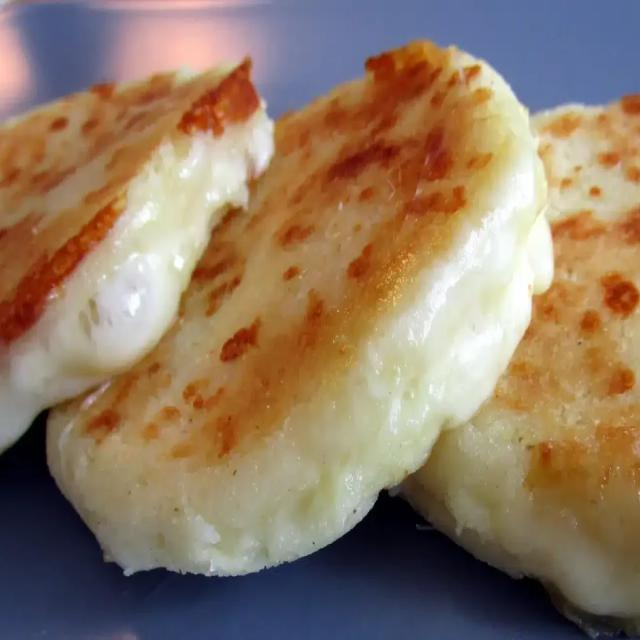arepa: (1, 45, 321, 588)
